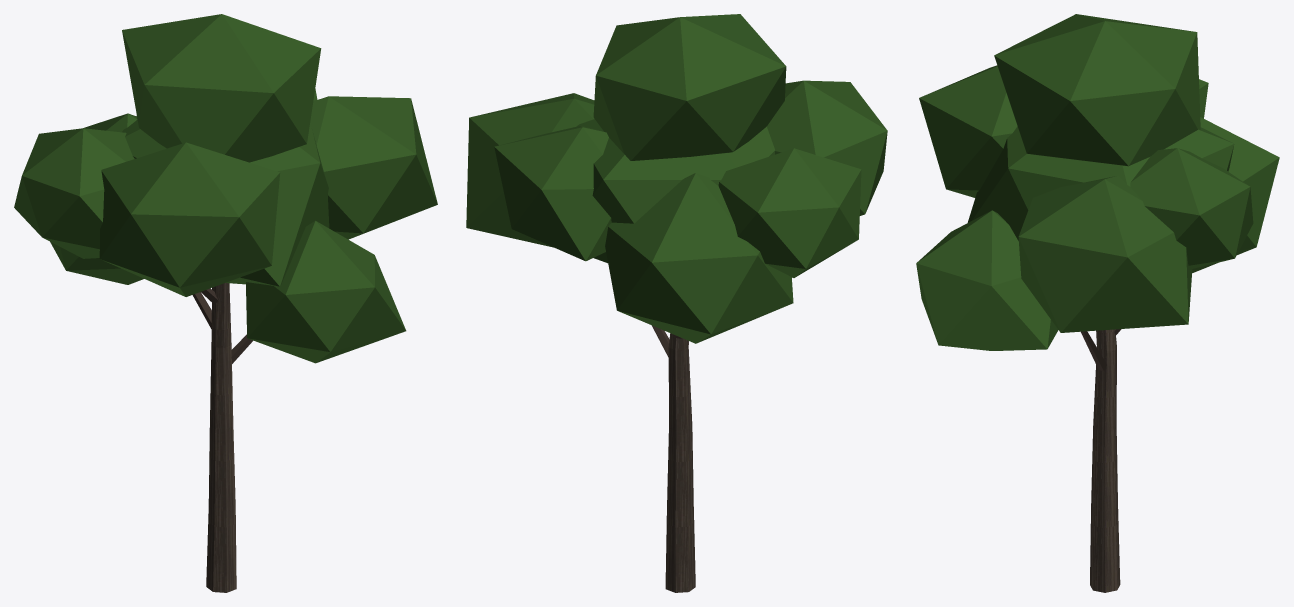
The model's file is tree_beech.glb.
The picture shows the model from 3 angles, left to right: view 1: azimuth 30°, elevation 25°; view 2: azimuth 150°, elevation 25°; view 3: azimuth 270°, elevation 25°; orthographic projection.
Visible parts, largest first — view 1: Tree_Beech; view 2: Tree_Beech; view 3: Tree_Beech.
Boxes of the visible parts, x1,y1,x2,y2 form: Tree_Beech: (14, 14, 437, 592); Tree_Beech: (466, 14, 887, 592); Tree_Beech: (916, 14, 1279, 592).
Size of the model in its own units: 6.12 by 8.8 by 5.13.
2 materials, 2 textured.
